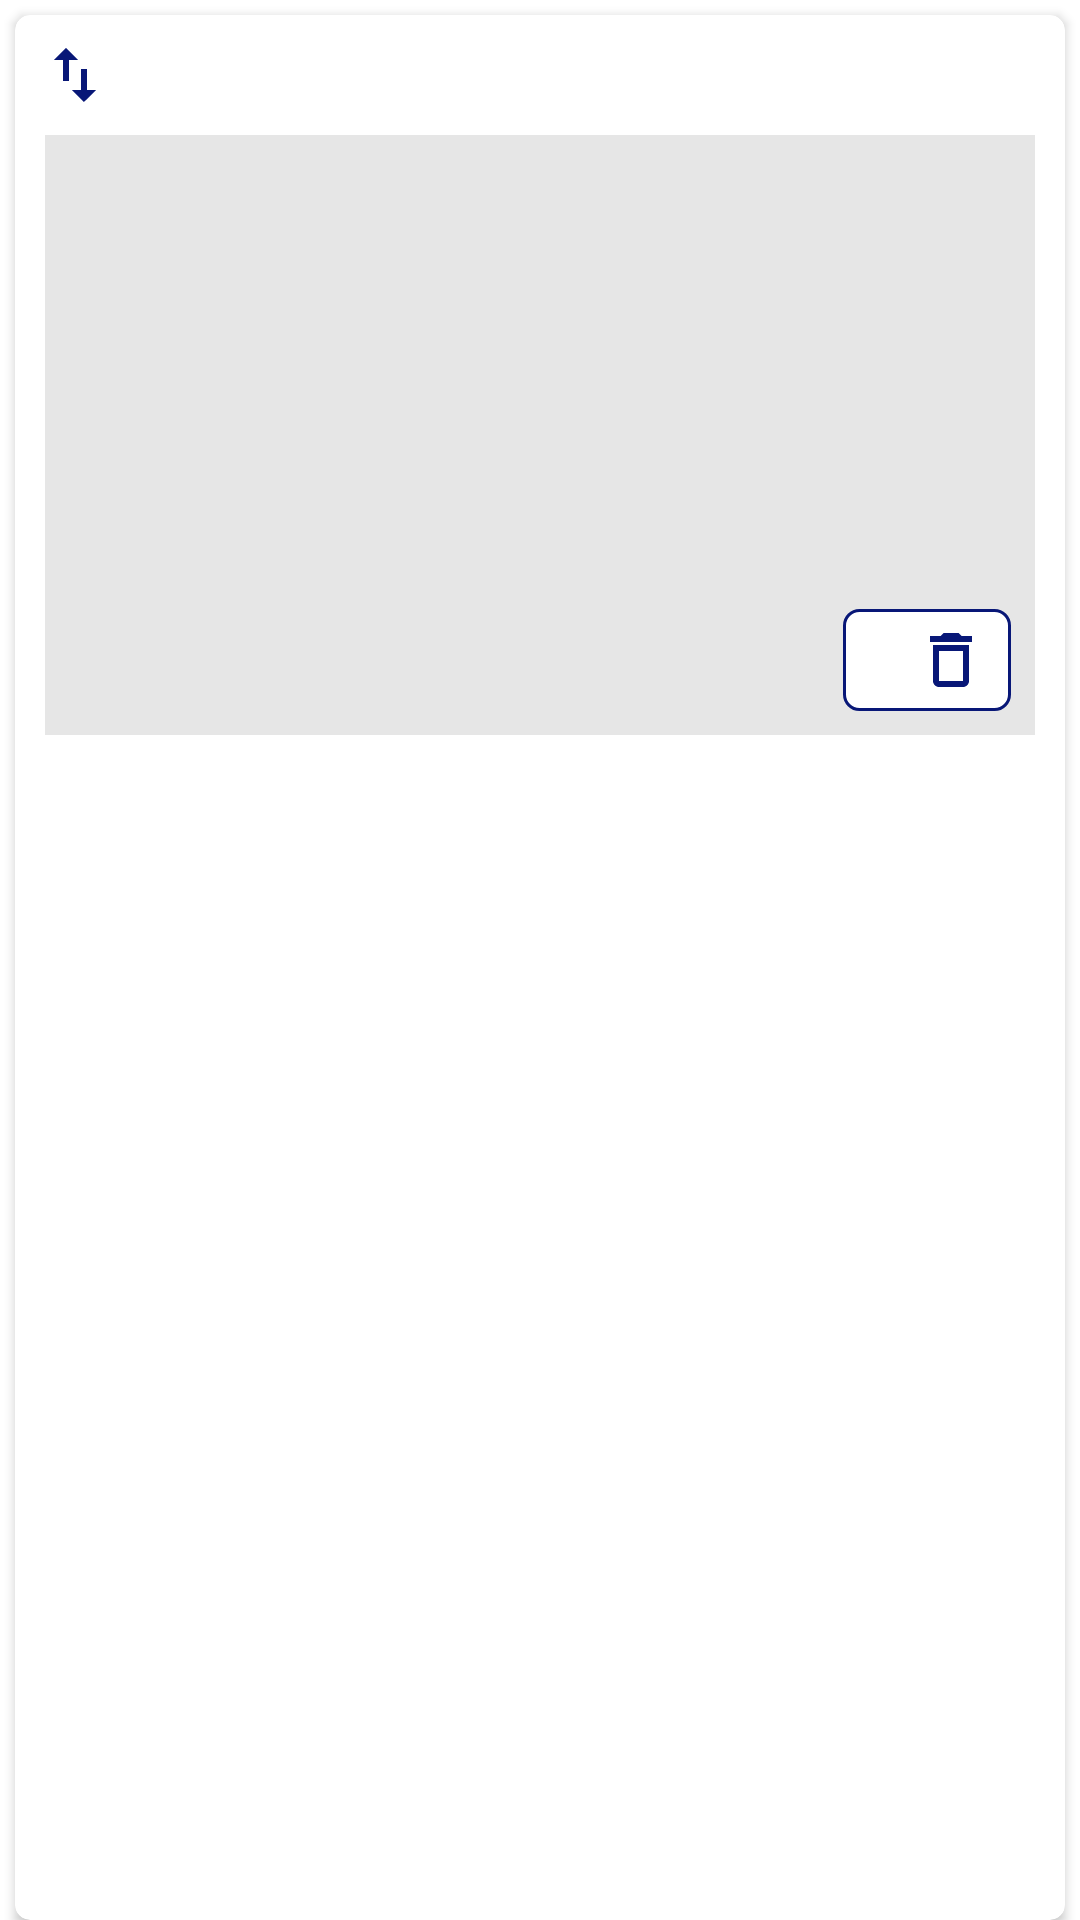

Named icons in this screenshot (1080x1920) and their bounding boxes, {"x1": x1, "y1": y1, "x2": x2, "y2": y2}:
delete: {"x1": 930, "y1": 633, "x2": 972, "y2": 687}
drag: {"x1": 54, "y1": 48, "x2": 96, "y2": 102}
